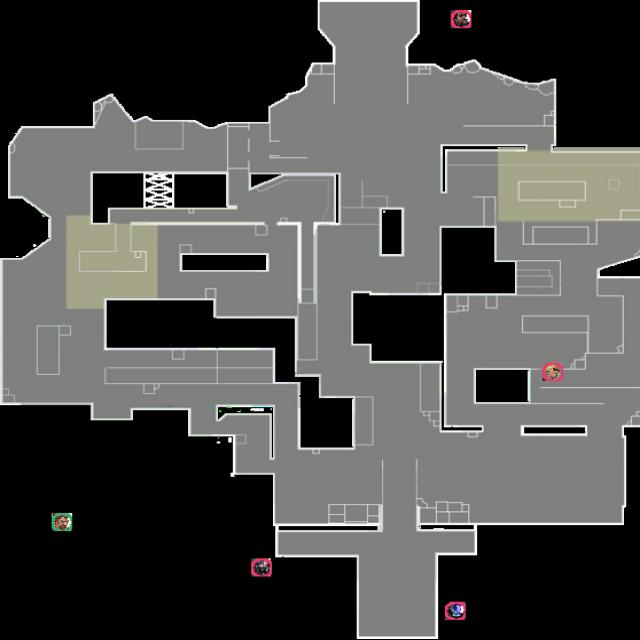atk_gekko: (543, 363, 563, 381)
atk_harbor: (451, 10, 471, 28)
atk_kayo: (445, 602, 466, 620)
atk_viper: (251, 558, 272, 576)
def_breach: (52, 513, 72, 531)
